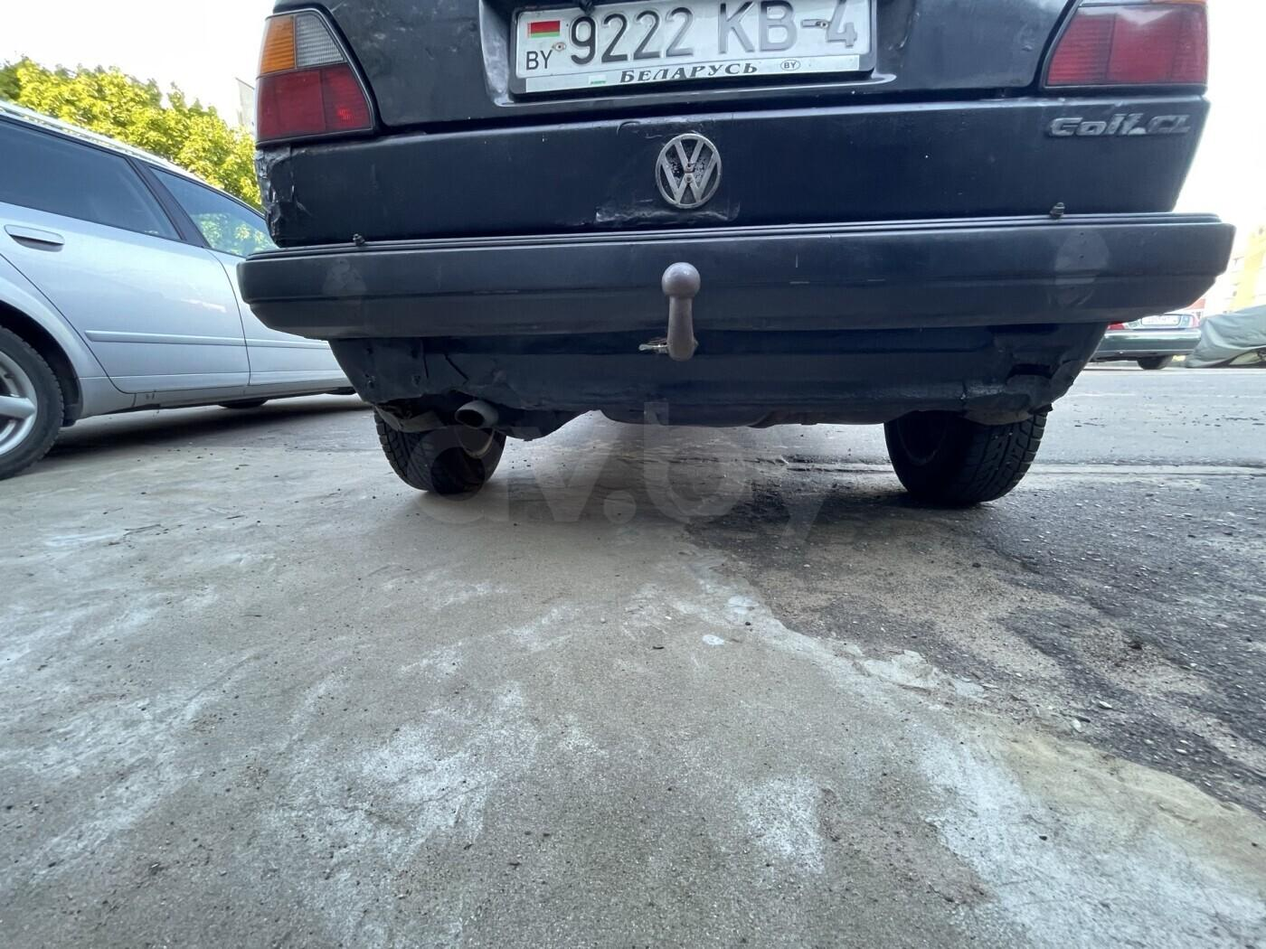Golf_1983-1992: (211, 0, 1241, 522)
